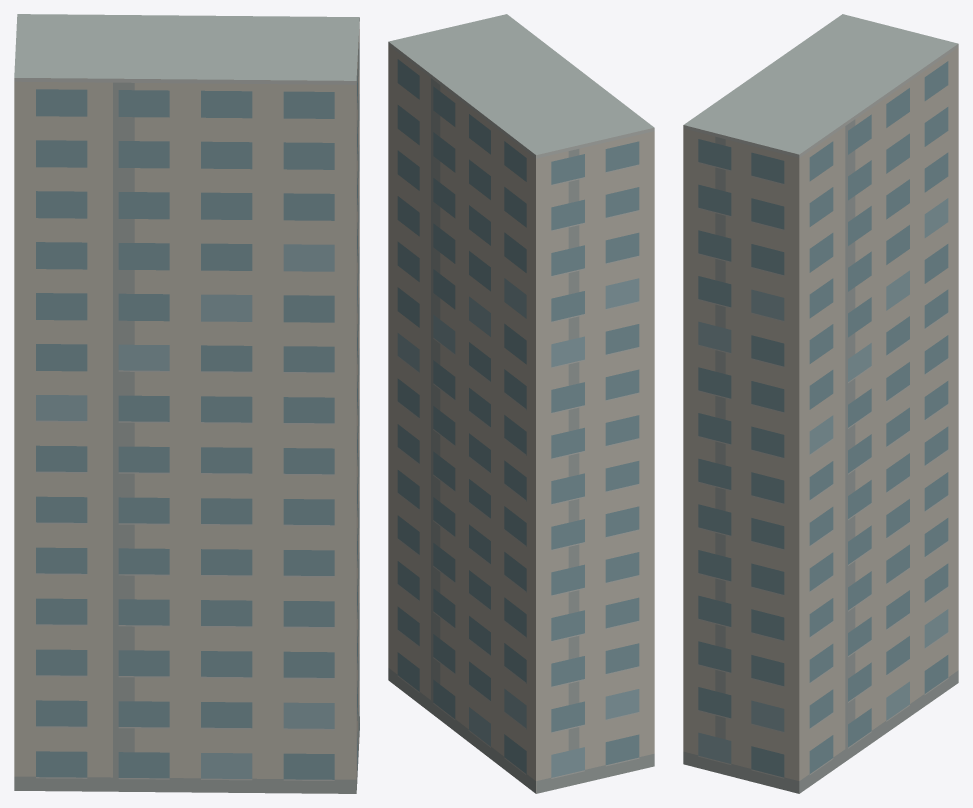
The model's file is residential-94e6e69b-ce7f-4517-8fcb-d00c5ffa5791.glb.
3 renders of one model, left to right at view 1: azimuth 30°, elevation 25°; view 2: azimuth 150°, elevation 25°; view 3: azimuth 270°, elevation 25°, orthographic. The views are drawn at different scales.
Parts seen in each view (by area): view 1: residential-94e6e69b-ce7f-4517-8fcb-d00c5ffa5791.tmp; view 2: residential-94e6e69b-ce7f-4517-8fcb-d00c5ffa5791.tmp; view 3: residential-94e6e69b-ce7f-4517-8fcb-d00c5ffa5791.tmp.
Boxes of the visible parts, x1,y1,x2,y2 form: residential-94e6e69b-ce7f-4517-8fcb-d00c5ffa5791.tmp: (14,14,359,793); residential-94e6e69b-ce7f-4517-8fcb-d00c5ffa5791.tmp: (388,14,654,793); residential-94e6e69b-ce7f-4517-8fcb-d00c5ffa5791.tmp: (683,14,958,793).
Bounding box in the file's own units: 20.76 × 44 × 17.16.
